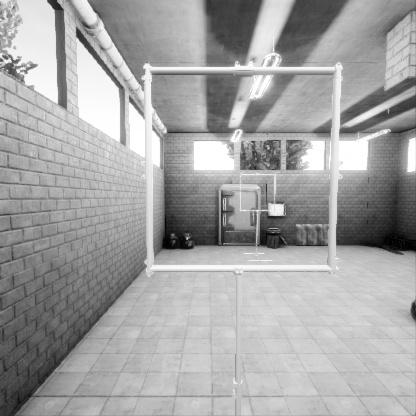gate: (149, 155, 348, 351), (239, 206, 278, 243)
